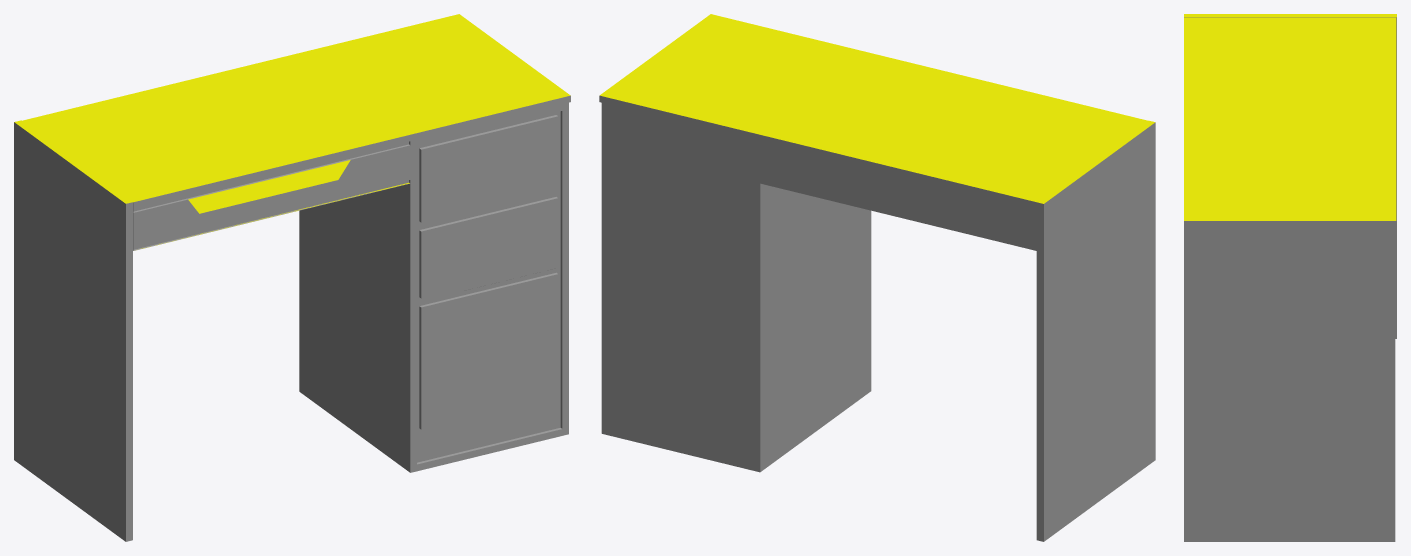
File: dormdesk.fbx
3 views of the same model, side by side, from view 1: azimuth 30°, elevation 25°; view 2: azimuth 150°, elevation 25°; view 3: azimuth 270°, elevation 25° (orthographic). The views are drawn at different scales.
Parts seen in each view (by area): view 1: desk; view 2: desk; view 3: desk.
Part boxes in pixels (x1,y1,x2,y2): desk: [14, 14, 570, 541]; desk: [599, 14, 1155, 541]; desk: [1184, 14, 1396, 541].
Size of the model in its own units: 4.21 by 3.06 by 1.83.
